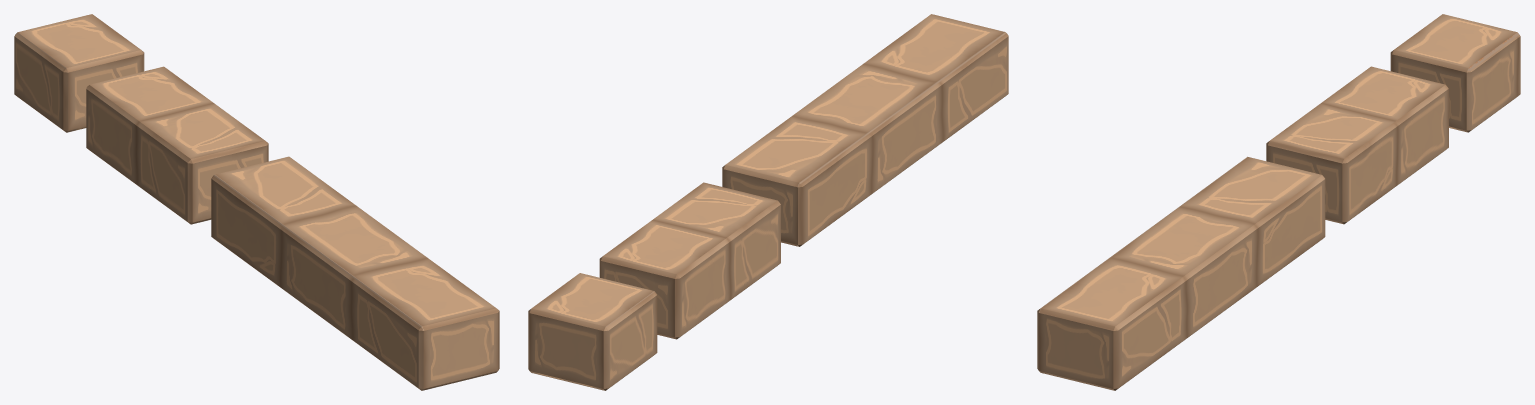
File: Bricks.fbx
The picture shows the model from 3 angles, left to right: view 1: azimuth 30°, elevation 25°; view 2: azimuth 150°, elevation 25°; view 3: azimuth 330°, elevation 25°; orthographic projection.
Visible parts, largest first — view 1: Bricksx4, Bricksx2, Bricksx1; view 2: Bricksx4, Bricksx2, Bricksx1; view 3: Bricksx4, Bricksx2, Bricksx1.
Part boxes in pixels (<box>): Bricksx4: <box>211,156,499,390</box>; Bricksx2: <box>86,66,268,224</box>; Bricksx1: <box>14,14,144,132</box>; Bricksx4: <box>722,14,1008,246</box>; Bricksx2: <box>599,182,780,339</box>; Bricksx1: <box>528,273,657,390</box>; Bricksx4: <box>1037,156,1325,390</box>; Bricksx2: <box>1266,66,1448,224</box>; Bricksx1: <box>1390,14,1520,132</box>.
Bounding box in the file's own units: 0.5369 × 0.4169 × 4.63.
